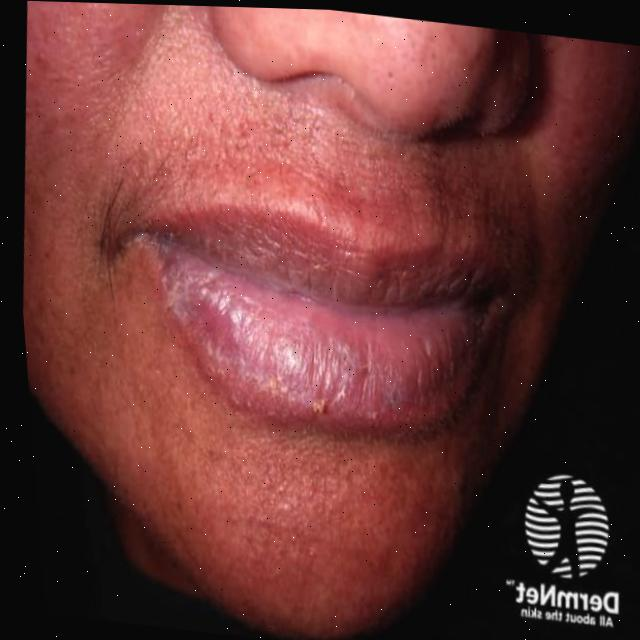lupus-detected: (101, 248, 408, 453)
